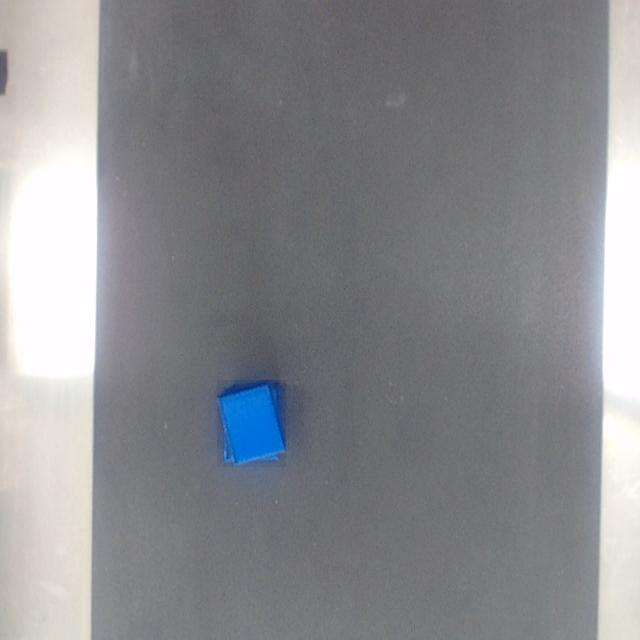Azul: (217, 380, 286, 467)
